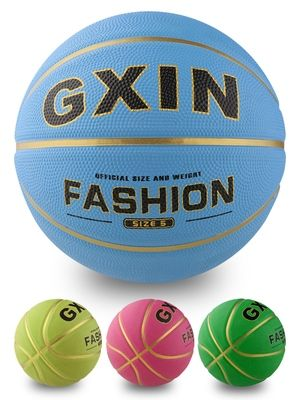ball: (14, 12, 288, 282), (13, 297, 104, 388), (107, 297, 195, 386), (198, 298, 286, 387)
